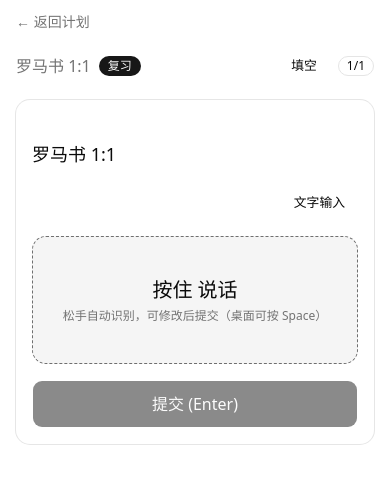
语音输入作为纯输入方式 › 不支持录音的环境长按时给出回退提示
Press the mouse on the button "按住 说话 松手自动识别，可修改后提交（桌面可按 Space）" at (195, 300), box [32, 236, 358, 364]
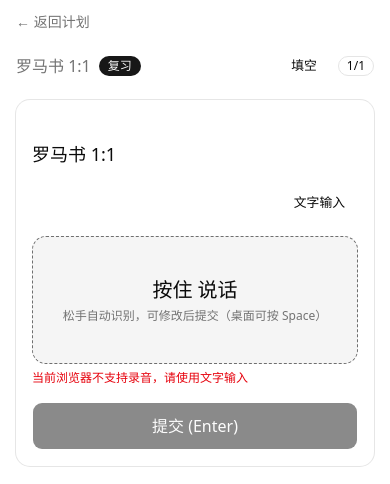
Check: the message shows "不支持录音", box [32, 369, 248, 386]
